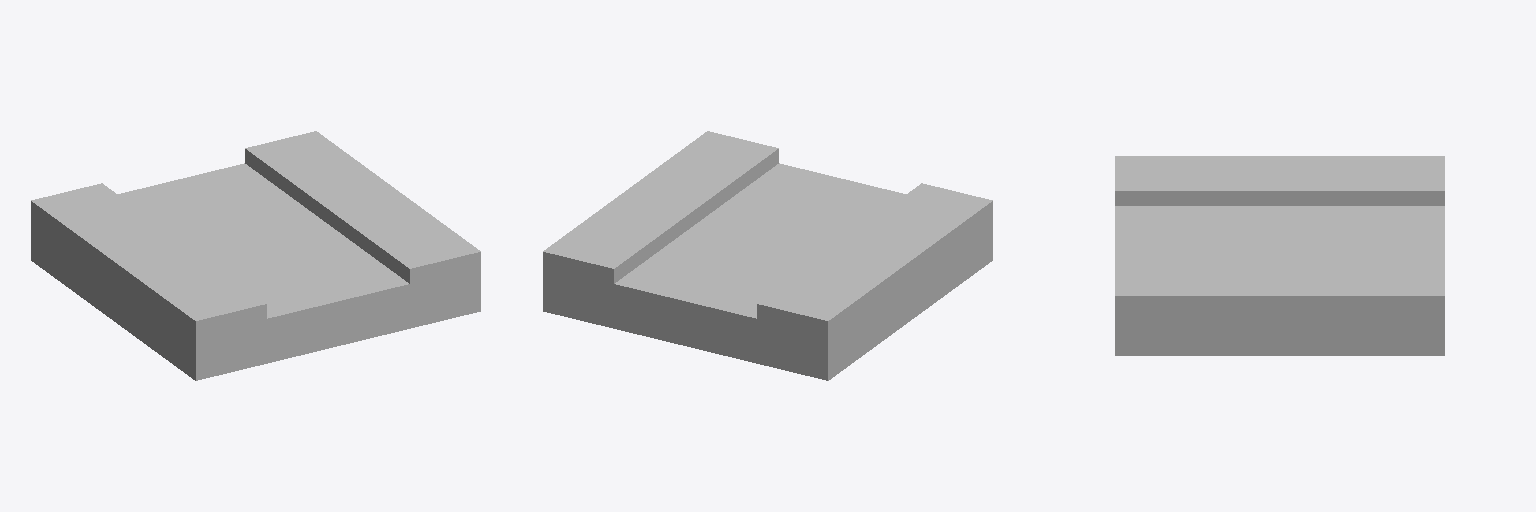
Rendered from RiverStraight.obj.
3 views of the same model, side by side, from view 1: azimuth 30°, elevation 25°; view 2: azimuth 150°, elevation 25°; view 3: azimuth 270°, elevation 25° (orthographic).
Visible parts, largest first — view 1: RiverStraight; view 2: RiverStraight; view 3: RiverStraight.
Boxes of the visible parts, <box> form: RiverStraight: <box>31,131,480,380</box>; RiverStraight: <box>543,131,992,380</box>; RiverStraight: <box>1115,156,1444,355</box>.
Bounding box in the file's own units: 1 × 0.2 × 1.